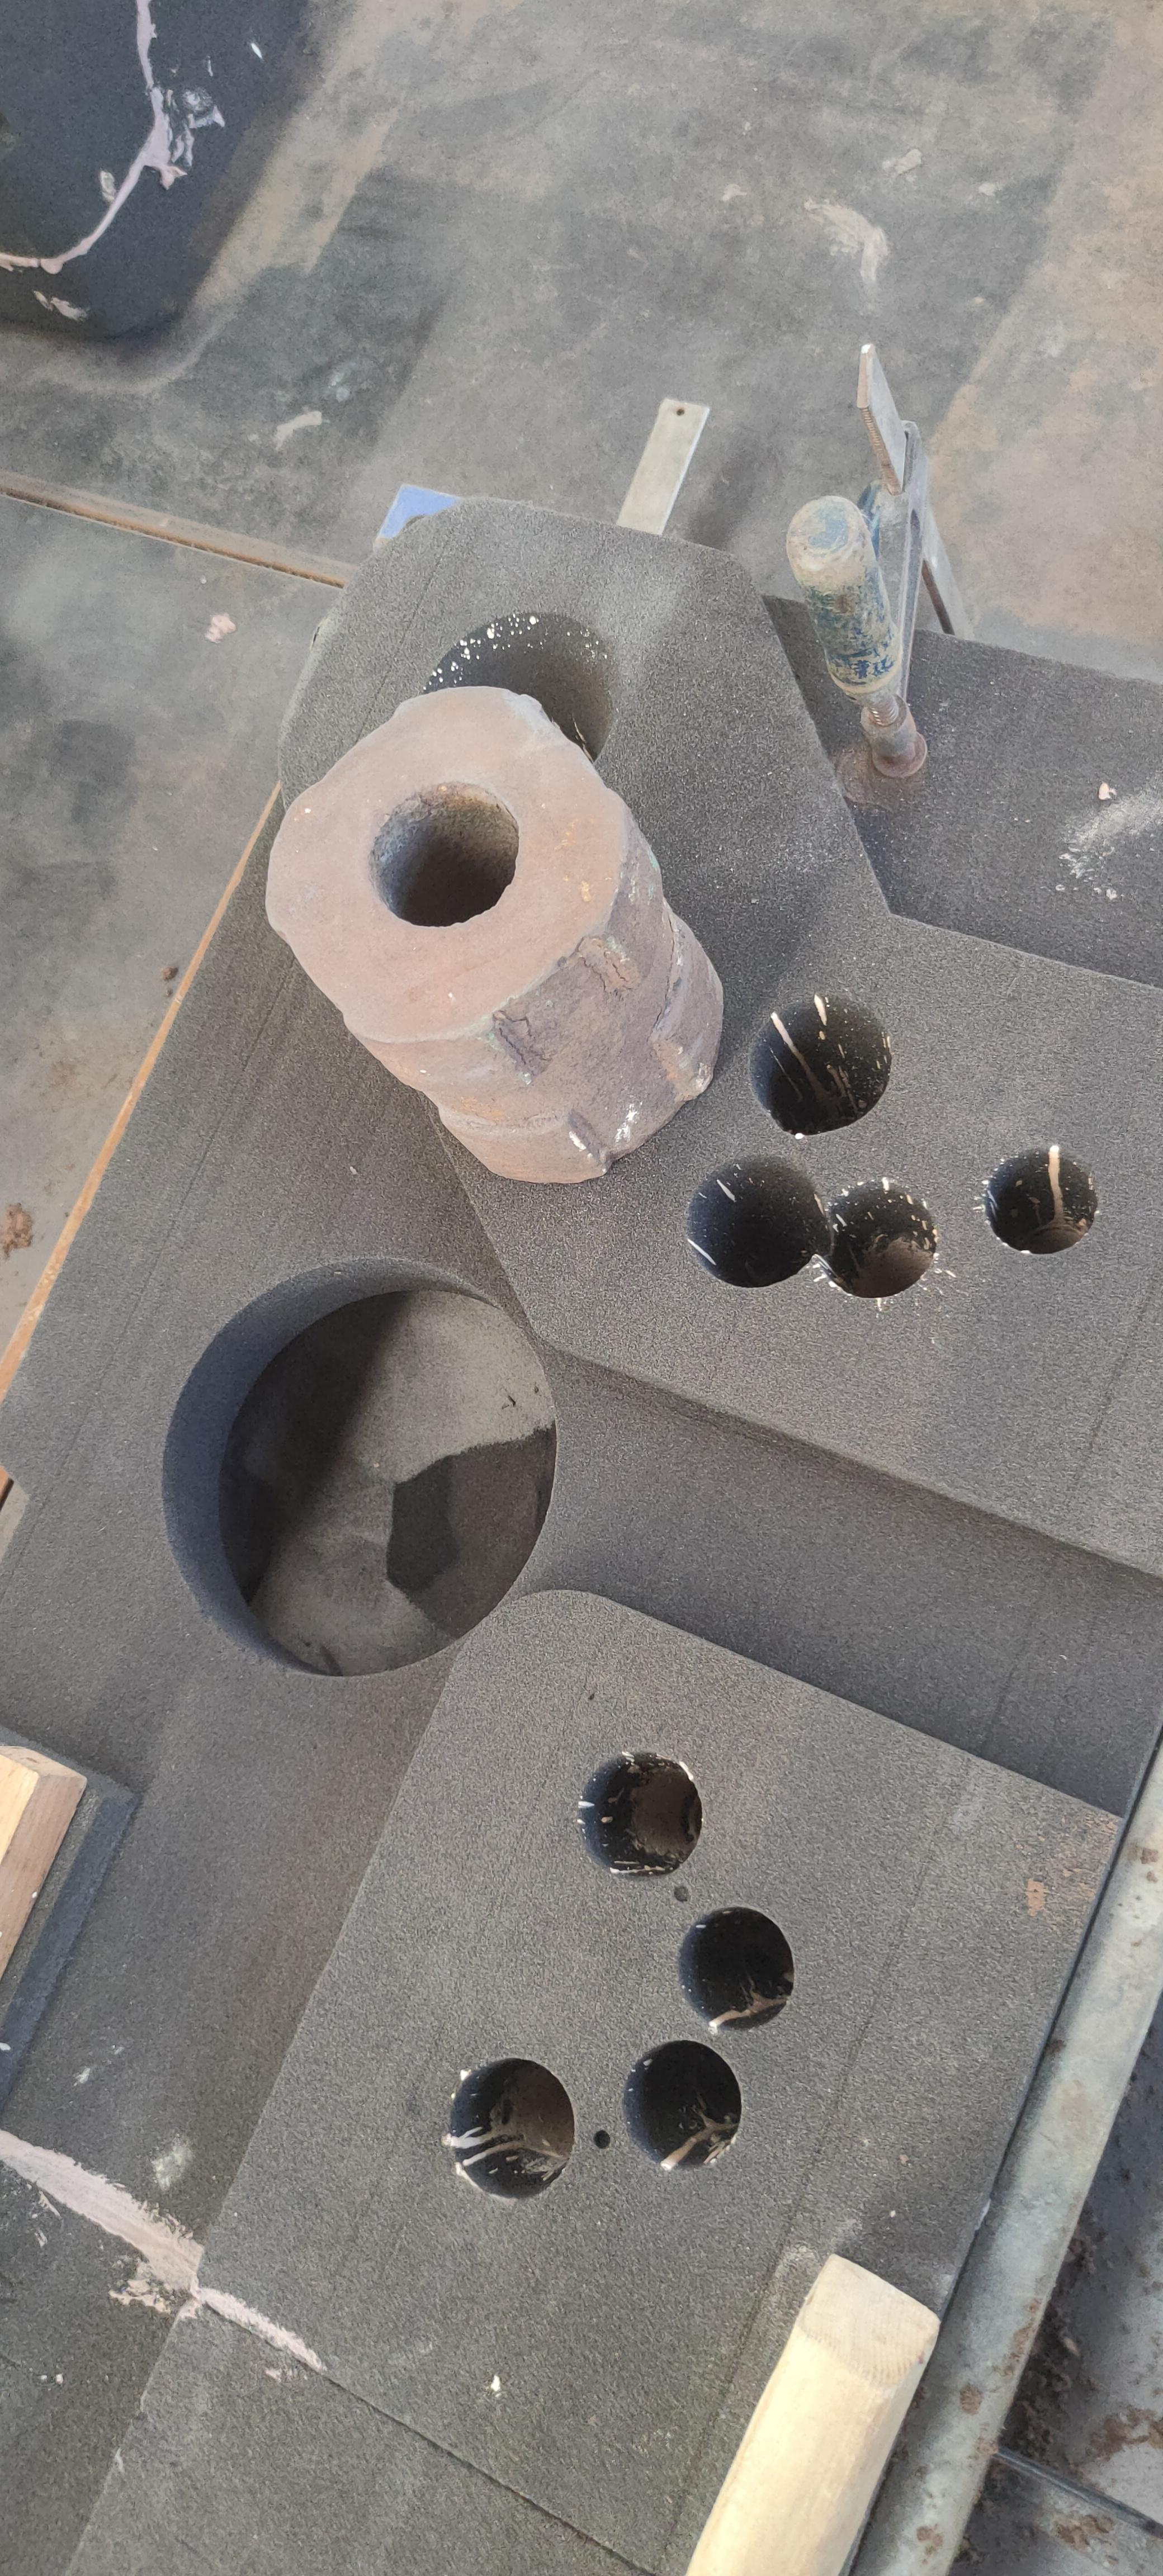pouring hole: (414, 608, 619, 784)
